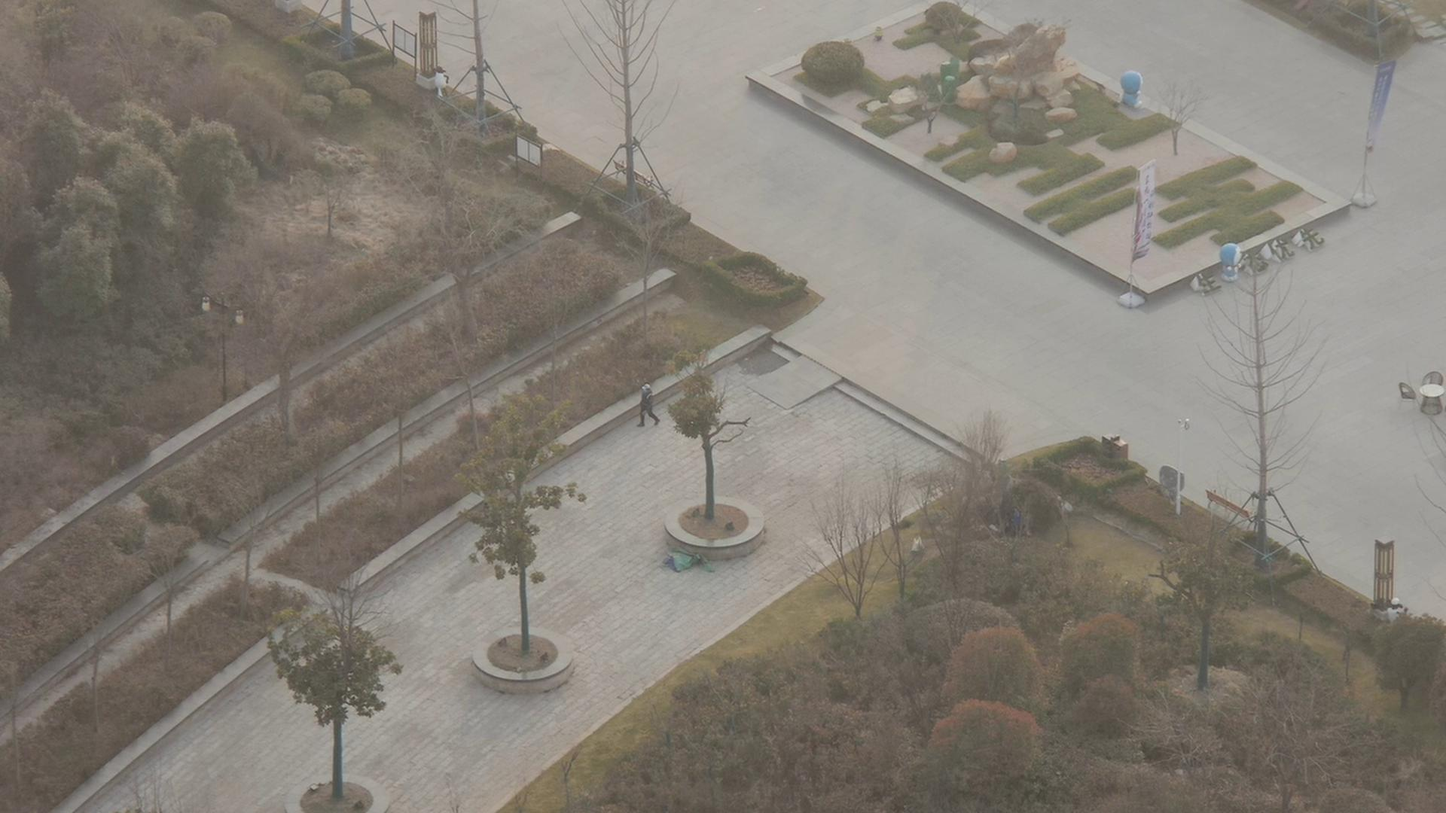human: (638, 368, 670, 426)
